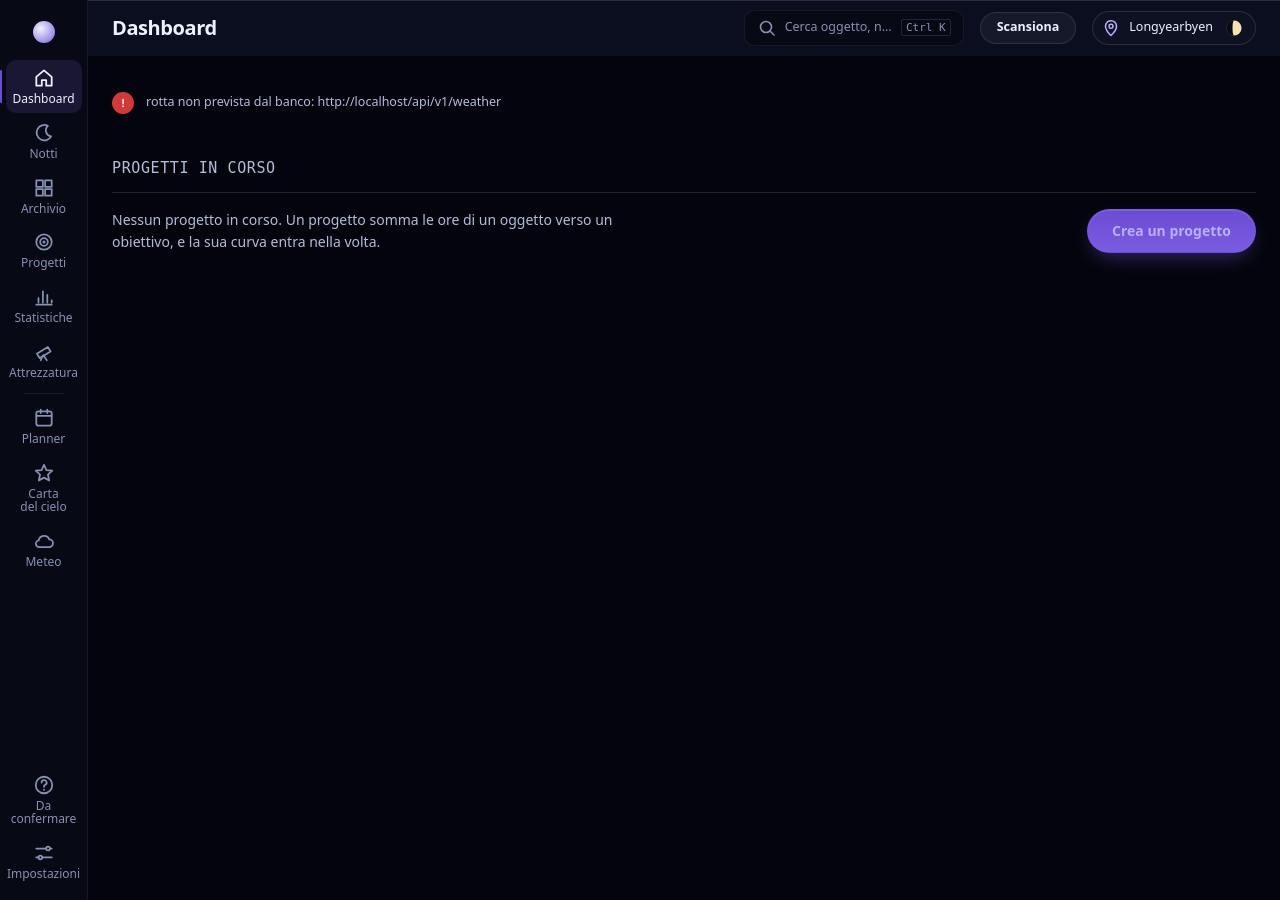
Test case: il pannello di Stanotte › una luna che non tramonta lo dice a parole
Click the button with aria-label "stanotte a longyearbyen": (1174, 28) [1092,10,1256,44]
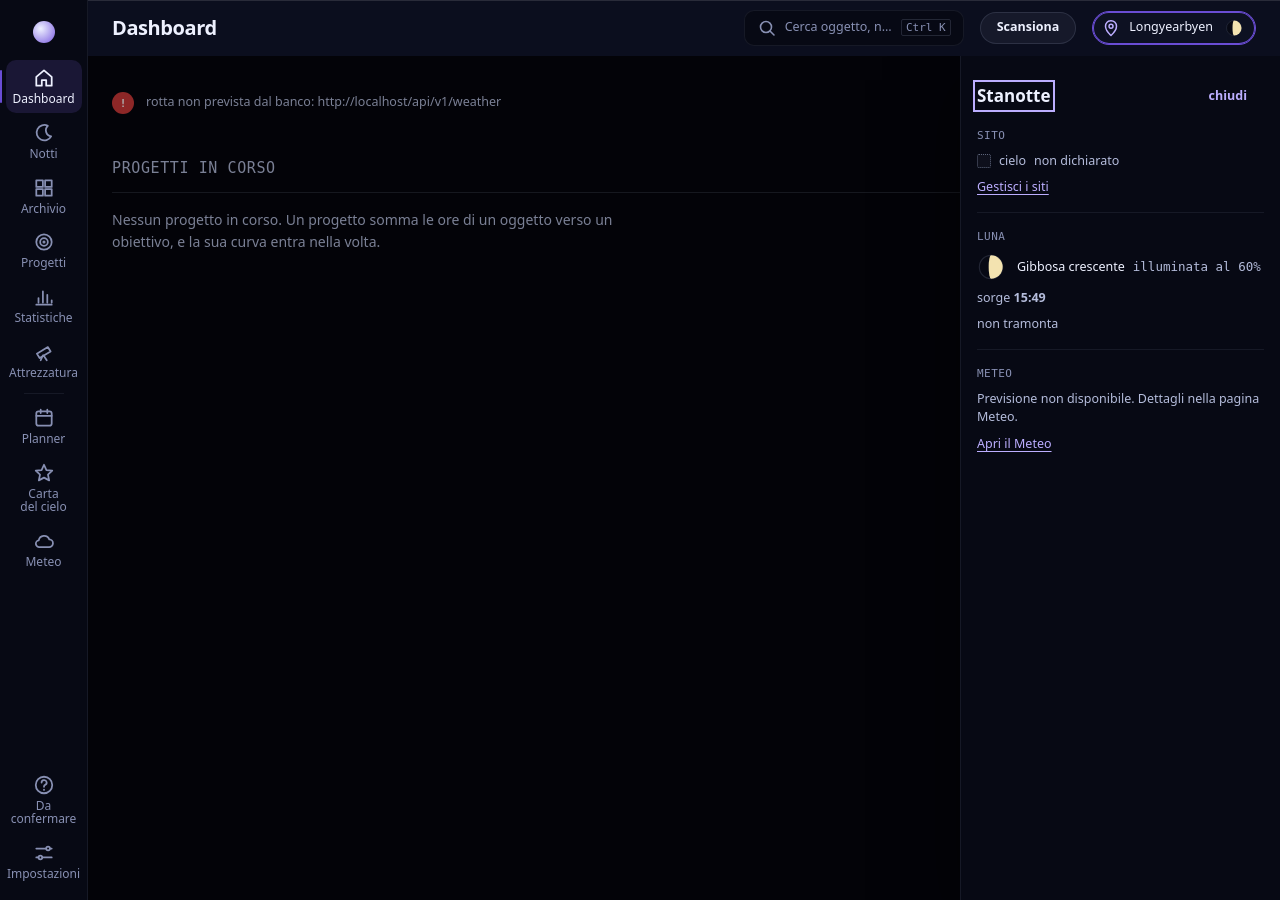
Now the text "non tramonta" is shown, box [977,315,1058,332]
